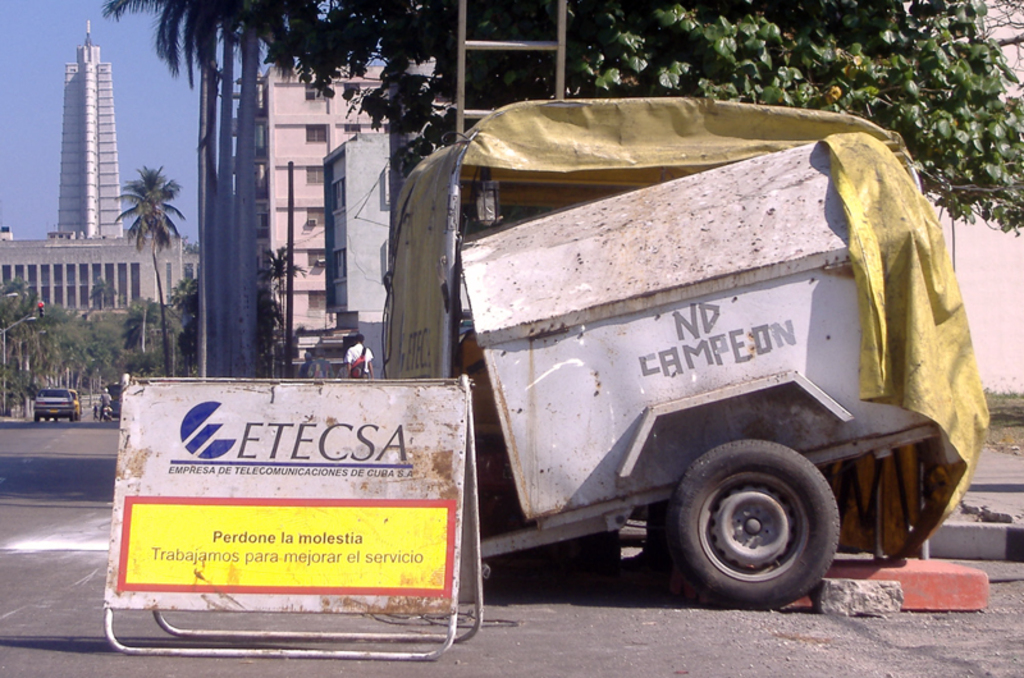Car: (33, 388, 79, 423), (55, 387, 81, 420), (102, 382, 117, 415)
